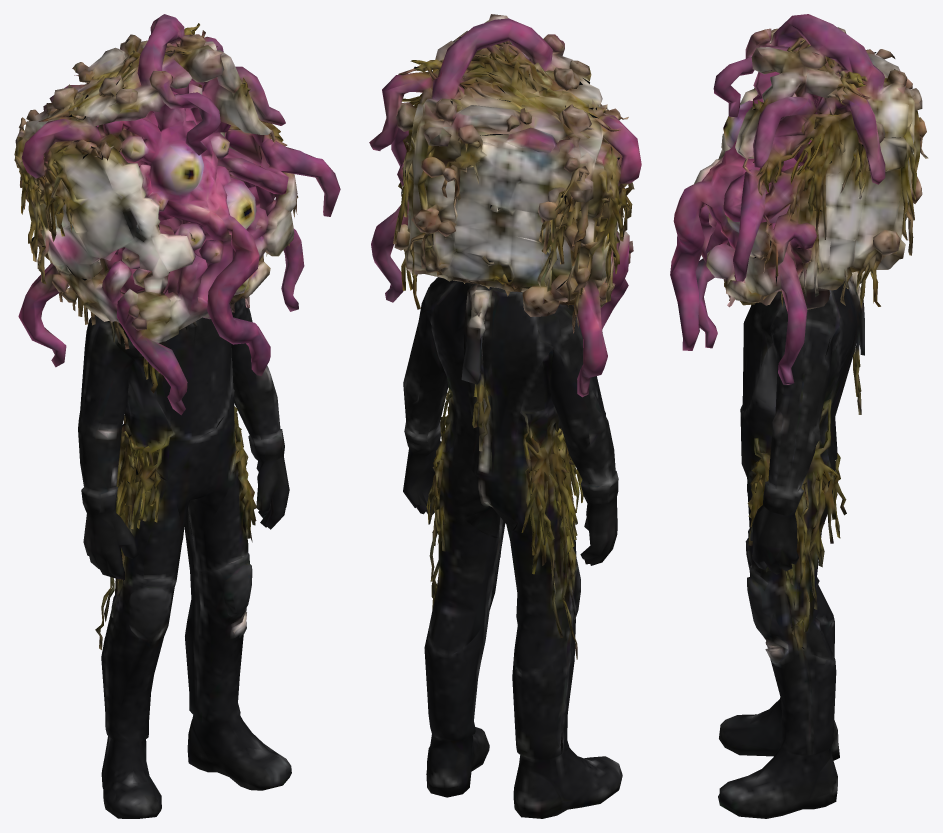
Rendered from cubo_rivelato.glb.
The picture shows the model from 3 angles, left to right: view 1: azimuth 30°, elevation 25°; view 2: azimuth 150°, elevation 25°; view 3: azimuth 270°, elevation 25°; orthographic projection. The views are drawn at different scales.
Parts seen in each view (by area): view 1: cubo_rivelato; view 2: cubo_rivelato; view 3: cubo_rivelato.
Part boxes in pixels (x1,y1,x2,y2): cubo_rivelato: (14,14,340,818); cubo_rivelato: (369,14,641,818); cubo_rivelato: (670,14,928,818).
Size of the model in its own units: 0.487 by 1.25 by 0.3864.
1 material, 1 textured.
